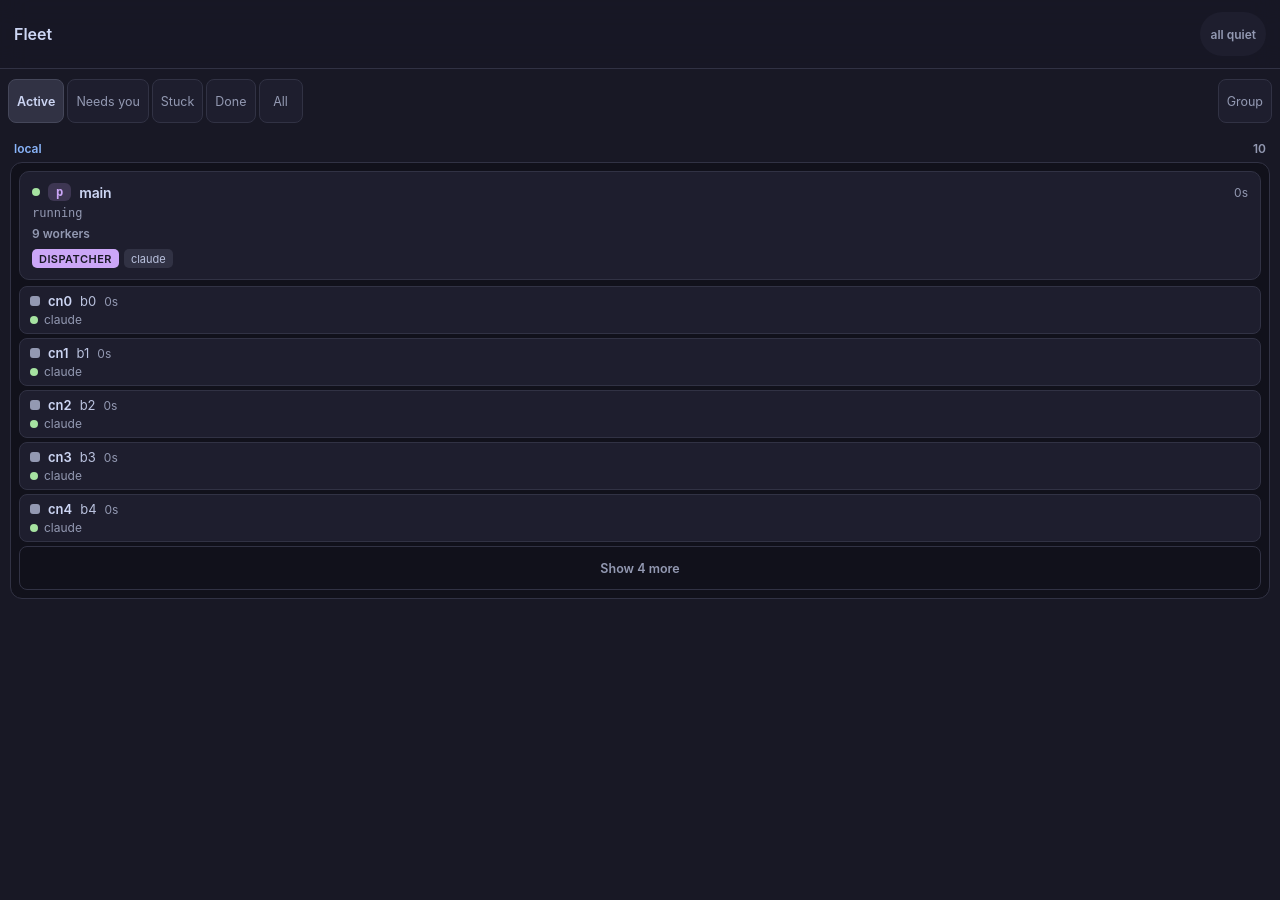
Test: FleetView dispatcher mode › collapse › renders only MEMBER_CAP rows past it, and toggles the rest
Expected: the number of elements with class "worker-row" is 5, [19, 286, 1261, 334]; [19, 338, 1261, 386]; [19, 390, 1261, 438]; [19, 442, 1261, 490]; [19, 494, 1261, 542]
Click the button "Show 4 more". click: click(640, 568)
box: [19, 546, 1261, 590]
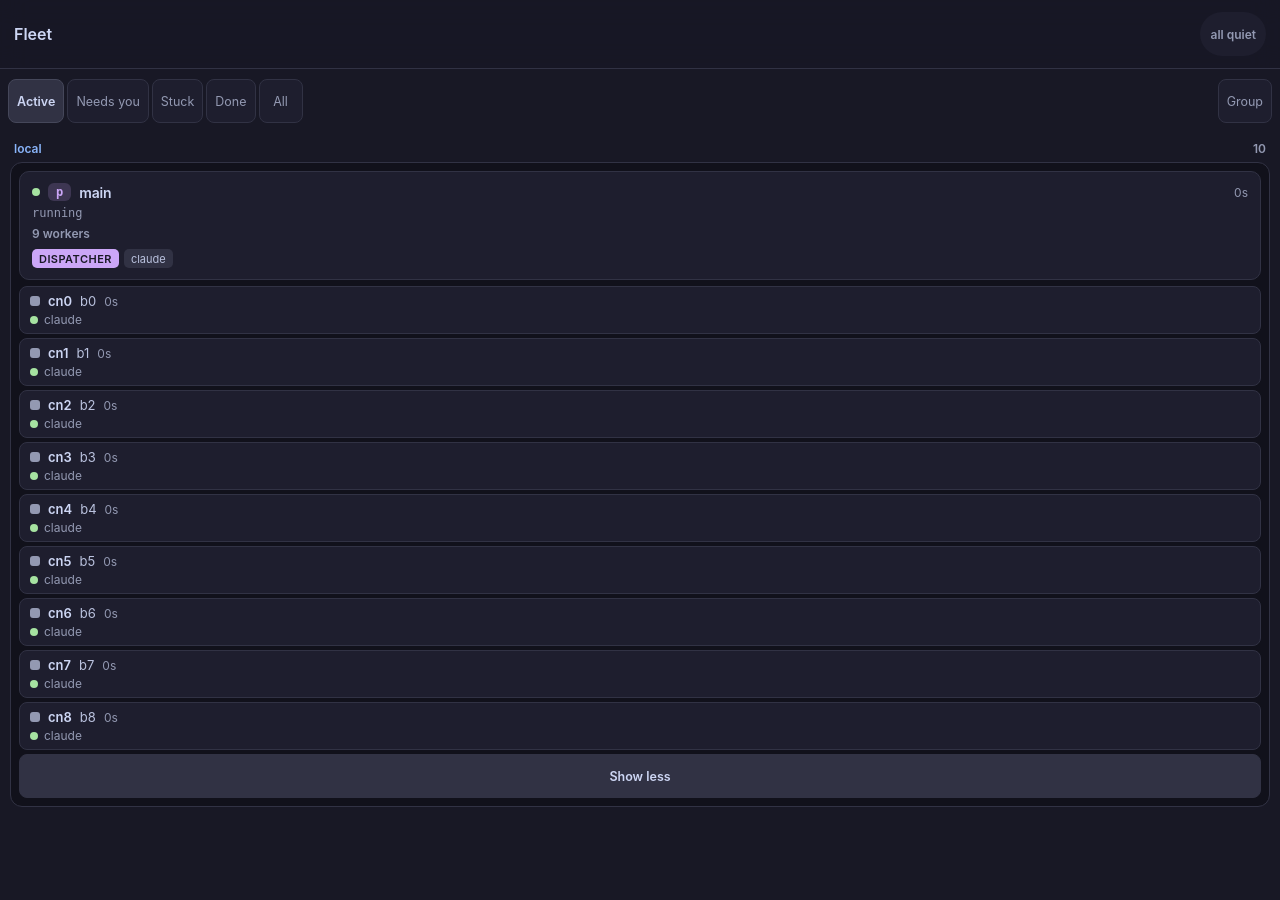
Now the number of elements with class "worker-row" is 9
Click the button "Show less". click: click(640, 776)
box: [19, 754, 1261, 798]
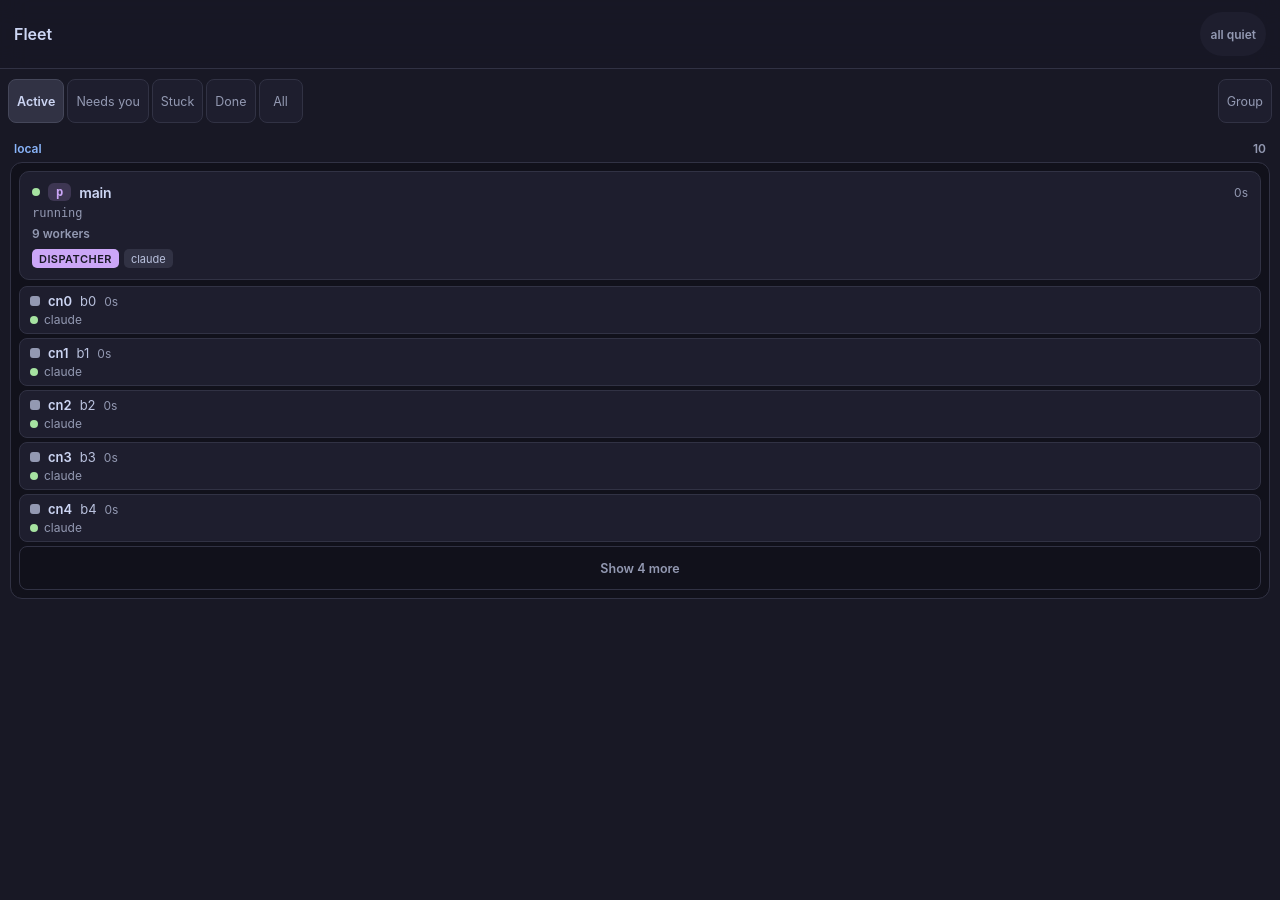
Now the number of elements with class "worker-row" is 5, box [19, 286, 1261, 334]; [19, 338, 1261, 386]; [19, 390, 1261, 438]; [19, 442, 1261, 490]; [19, 494, 1261, 542]
